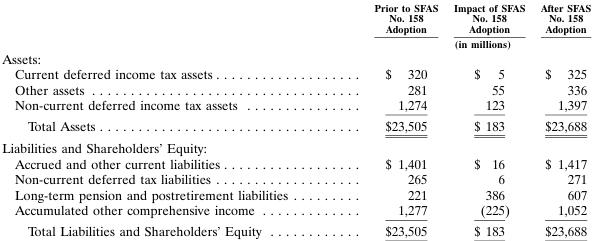table: (1, 1, 590, 238)
table column: (1, 1, 330, 238), (330, 1, 445, 238), (445, 1, 532, 238), (532, 1, 590, 238)
table column header: (1, 1, 590, 49)
table projected row header: (1, 136, 590, 155), (1, 49, 590, 65)
table row: (1, 1, 590, 35), (1, 114, 590, 136), (1, 136, 590, 155), (1, 96, 590, 114), (1, 202, 590, 220), (1, 220, 590, 238), (1, 49, 590, 65), (1, 65, 590, 81), (1, 155, 590, 171), (1, 186, 590, 202), (1, 81, 590, 96), (1, 171, 590, 186), (1, 35, 590, 49)
table spanning cell: (330, 35, 590, 49)
